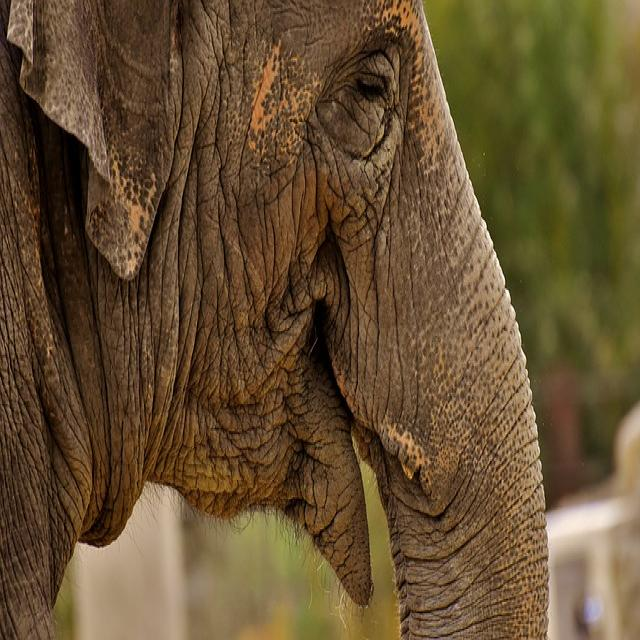FIL: (0, 0, 551, 629)
